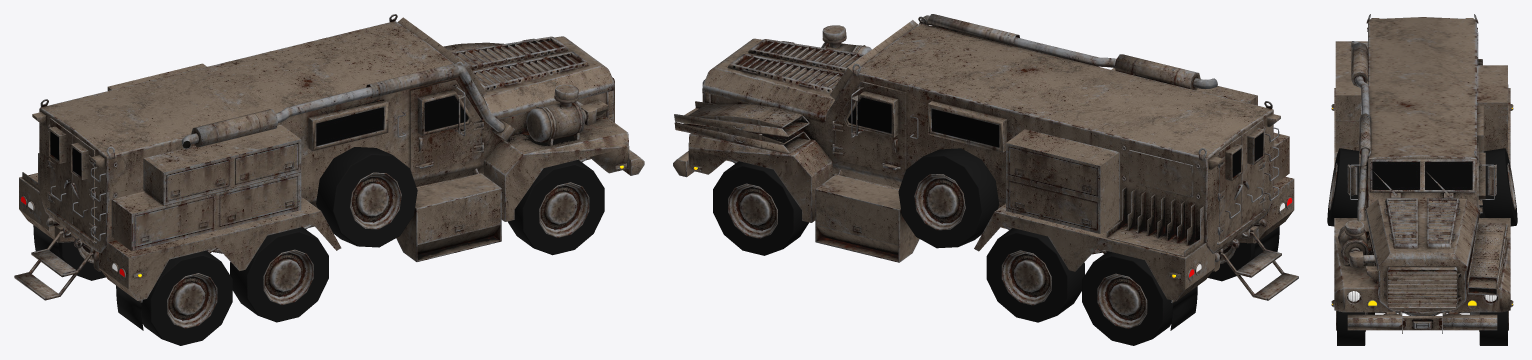
File: GroundVehiclePBR.gltf
3 renders of one model, left to right at view 1: azimuth 30°, elevation 25°; view 2: azimuth 150°, elevation 25°; view 3: azimuth 270°, elevation 25°, orthographic. The views are drawn at different scales.
Parts seen in each view (by area): view 1: Default; view 2: Default; view 3: Default.
Boxes of the visible parts, <box> form: Default: <box>14,14,644,345</box>; Default: <box>673,14,1298,345</box>; Default: <box>1327,14,1517,345</box>.
Bounding box in the file's own units: 7.81 × 2.61 × 2.8.
3 materials, 3 textured.
